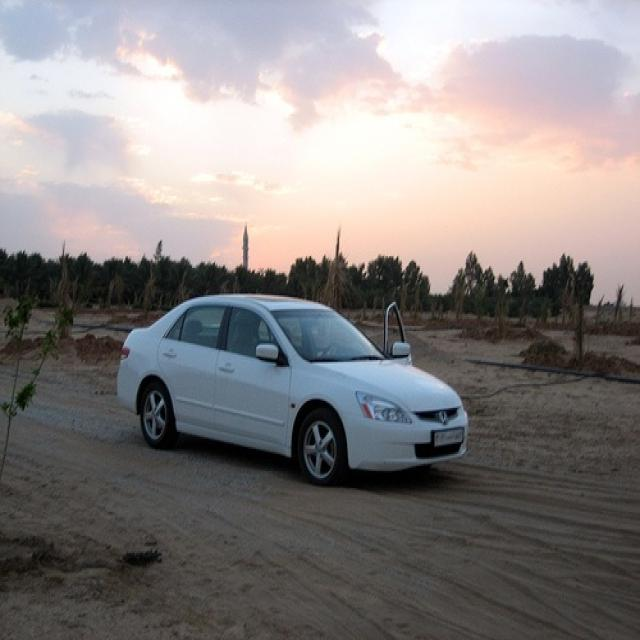car: (105, 282, 479, 495)
